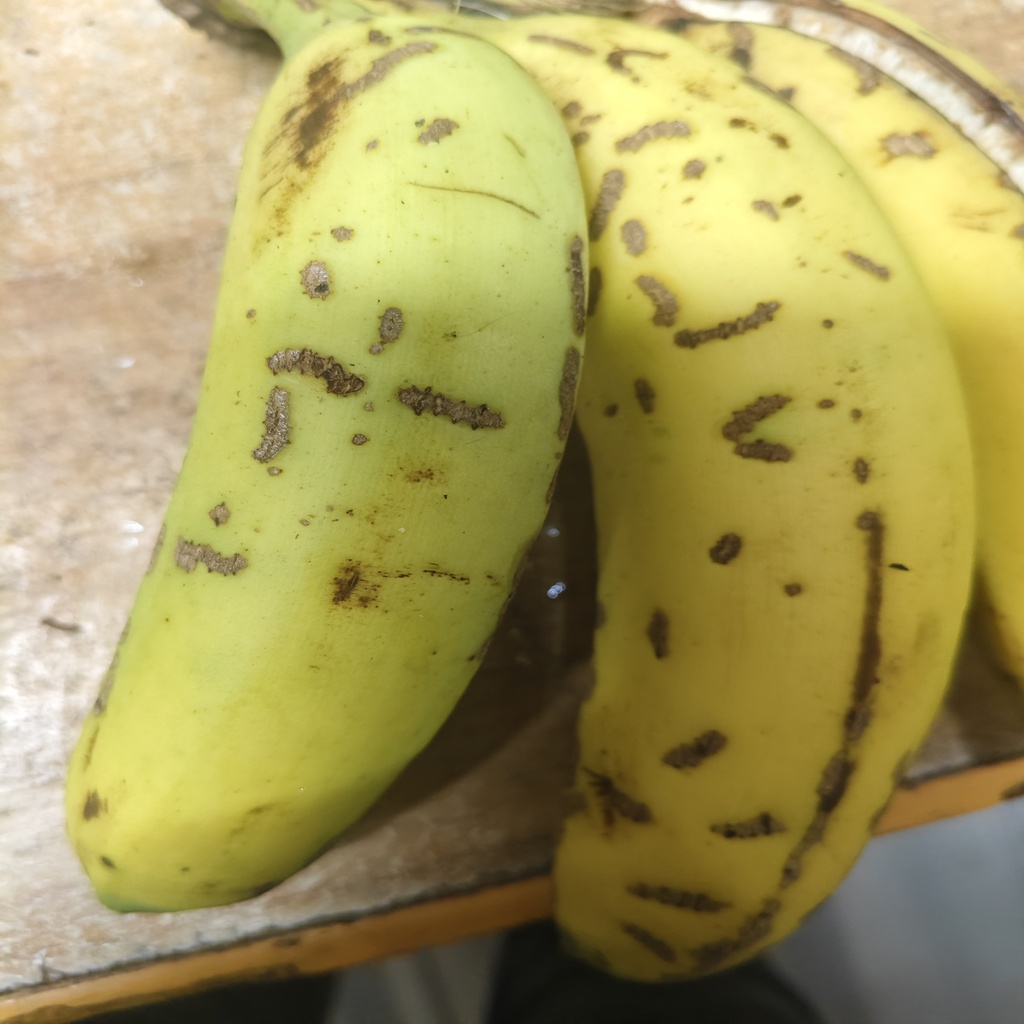unhealthy: (72, 20, 591, 913), (562, 24, 974, 981)
